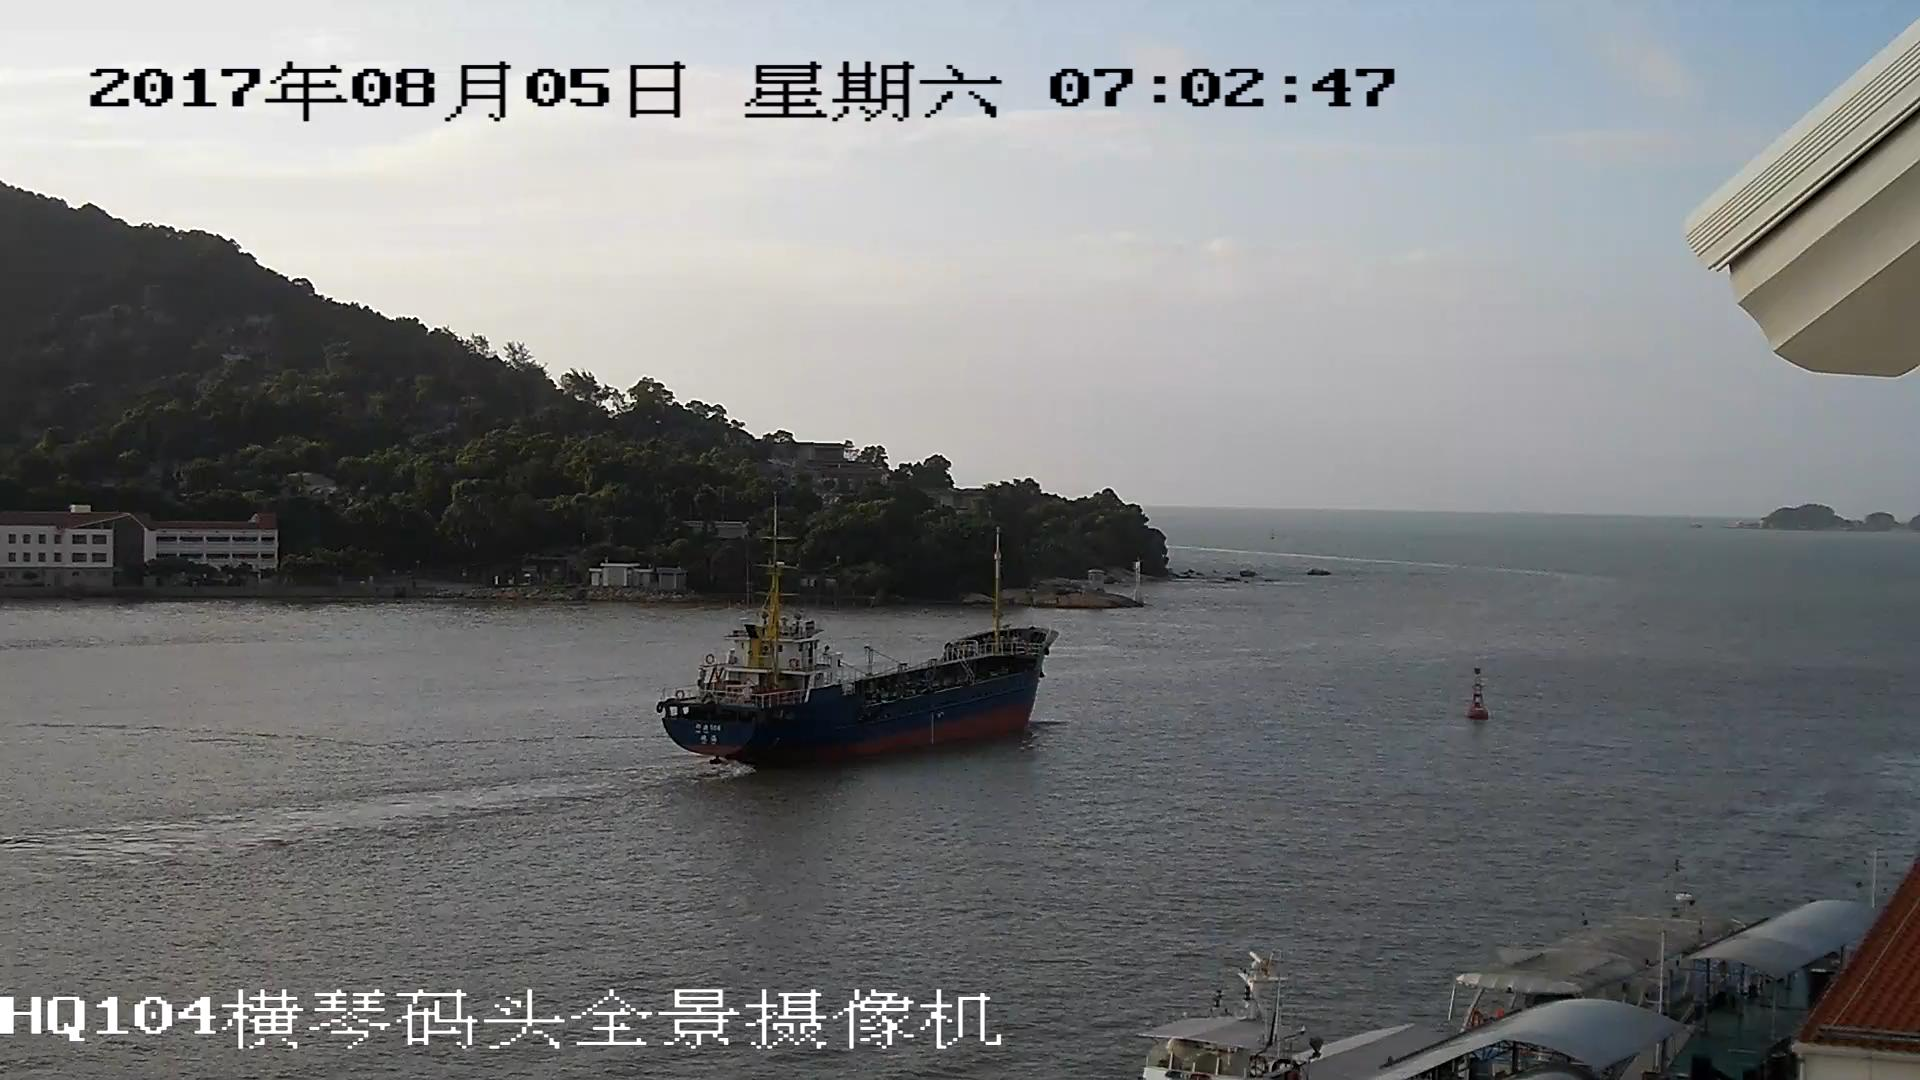general cargo ship: (657, 531, 1056, 767)
